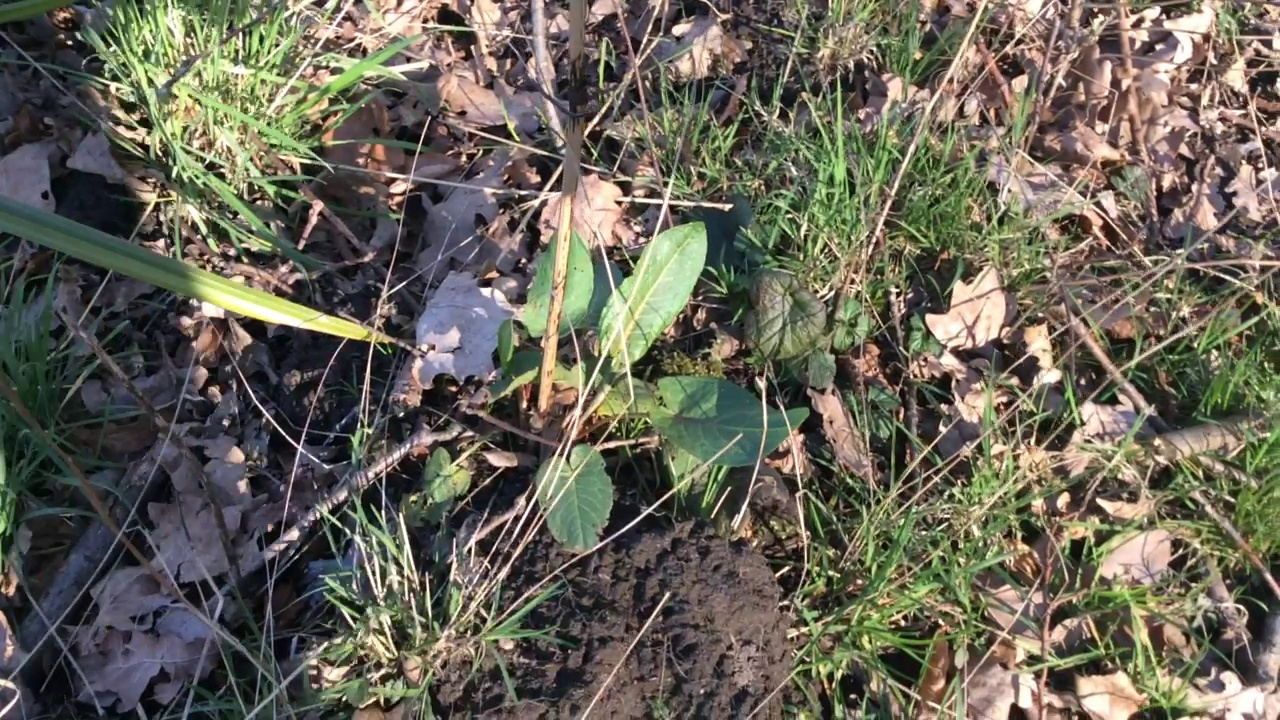rumex: (417, 228, 809, 553)
